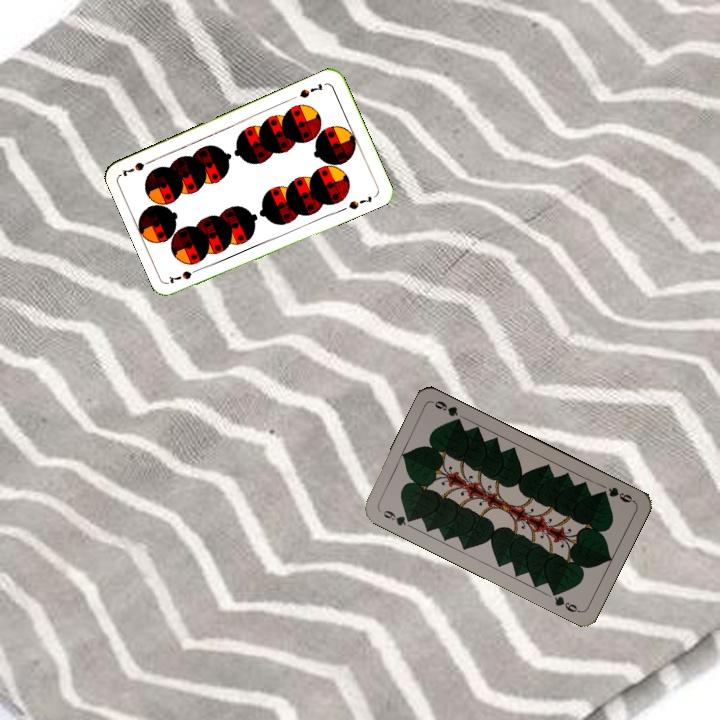G9: (596, 483, 637, 505), (379, 506, 416, 529)
S7: (165, 264, 205, 286), (295, 79, 325, 101)
